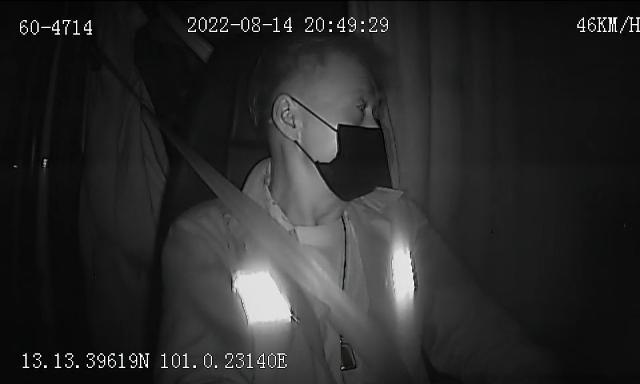SafeDriving: (278, 100, 298, 127)
Seatbelt: (166, 131, 387, 375)
